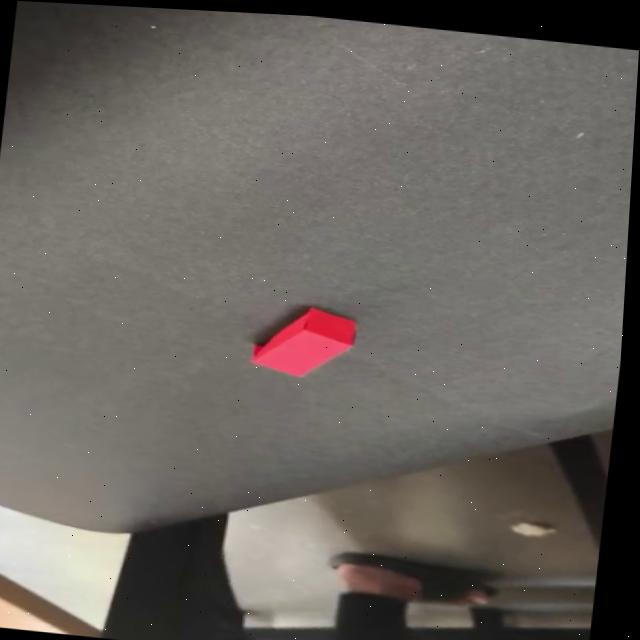red block: (247, 300, 360, 383)
